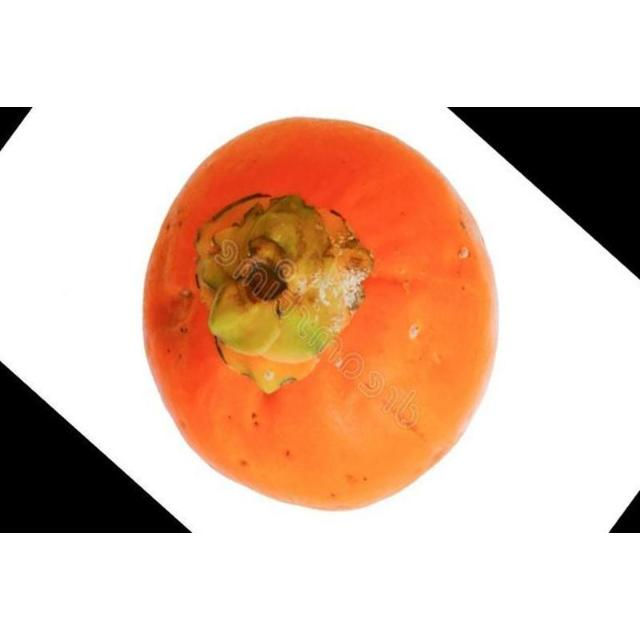good: (130, 116, 502, 513)
